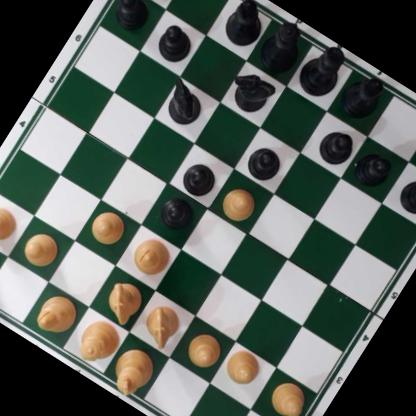black-bishop: (335, 64, 392, 124), (219, 0, 274, 51)
black-king: (291, 35, 355, 105)
black-knight: (157, 76, 211, 129), (226, 64, 278, 117)
black-pawn: (241, 138, 289, 187), (177, 156, 224, 203), (152, 18, 198, 66), (314, 123, 359, 170), (352, 145, 396, 190), (156, 190, 199, 234), (107, 0, 156, 36), (394, 171, 416, 221)
black-queen: (255, 14, 314, 78)
black-rook: (126, 0, 193, 0)
white-bishop: (30, 287, 82, 341), (128, 230, 177, 280)
white-king: (104, 338, 162, 401)
white-knight: (99, 277, 148, 328), (137, 299, 186, 350)
white-pawn: (18, 226, 65, 272), (220, 344, 266, 390), (85, 204, 131, 250), (217, 180, 262, 226), (182, 328, 227, 372), (265, 376, 313, 416), (0, 198, 24, 247)
white-queen: (70, 311, 126, 372)
white-rook: (0, 233, 1, 293)
